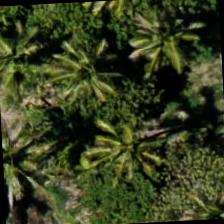Kelapa_Sawit: (39, 29, 134, 124), (105, 4, 200, 98)
